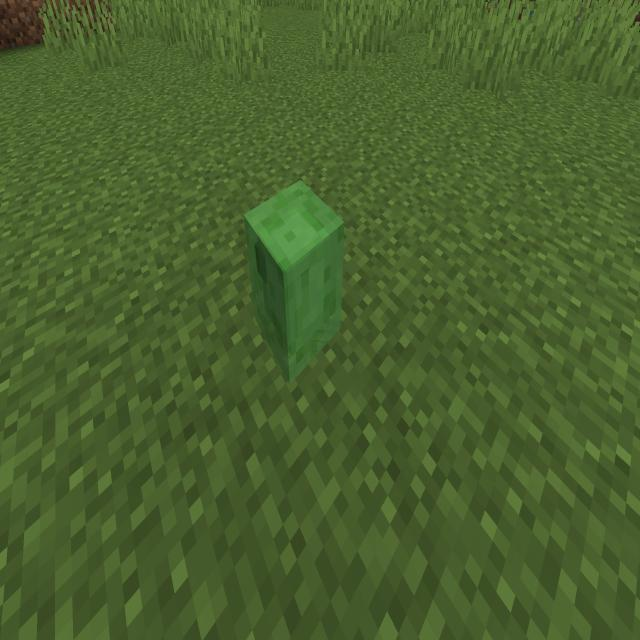Slime: (240, 163, 351, 393)
